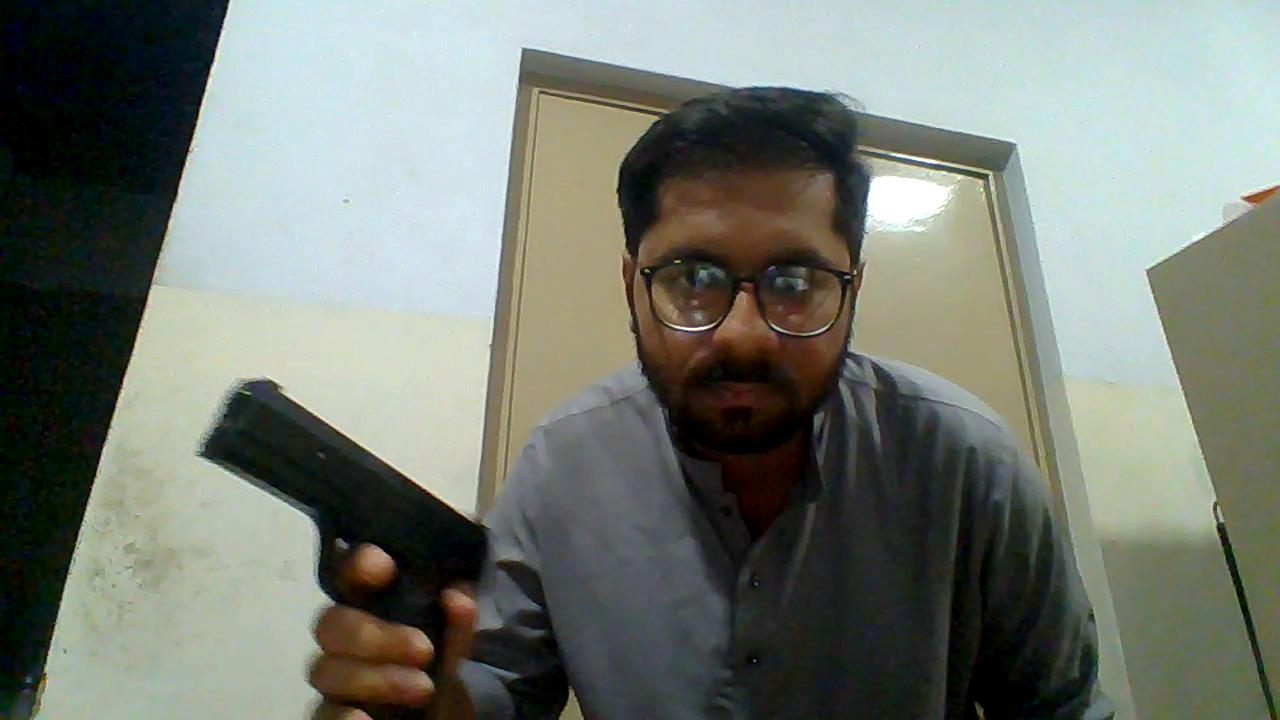criminal: (194, 86, 1123, 720)
weapon: (195, 377, 489, 720)
